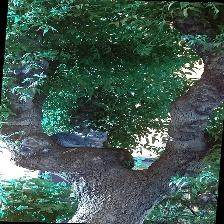kedo: (49, 130, 108, 149)
